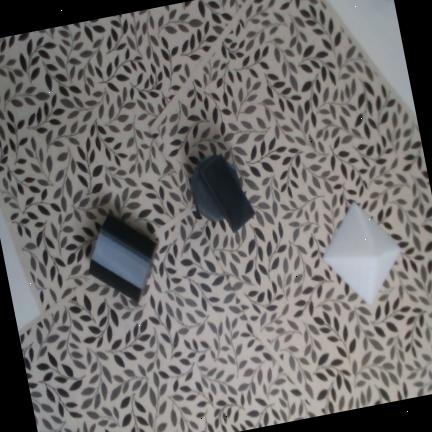Paralelepipedo: (199, 156, 256, 233)
Piramide: (322, 201, 402, 305)
Prisma_hexagonal: (89, 213, 159, 304), (191, 155, 242, 222)
